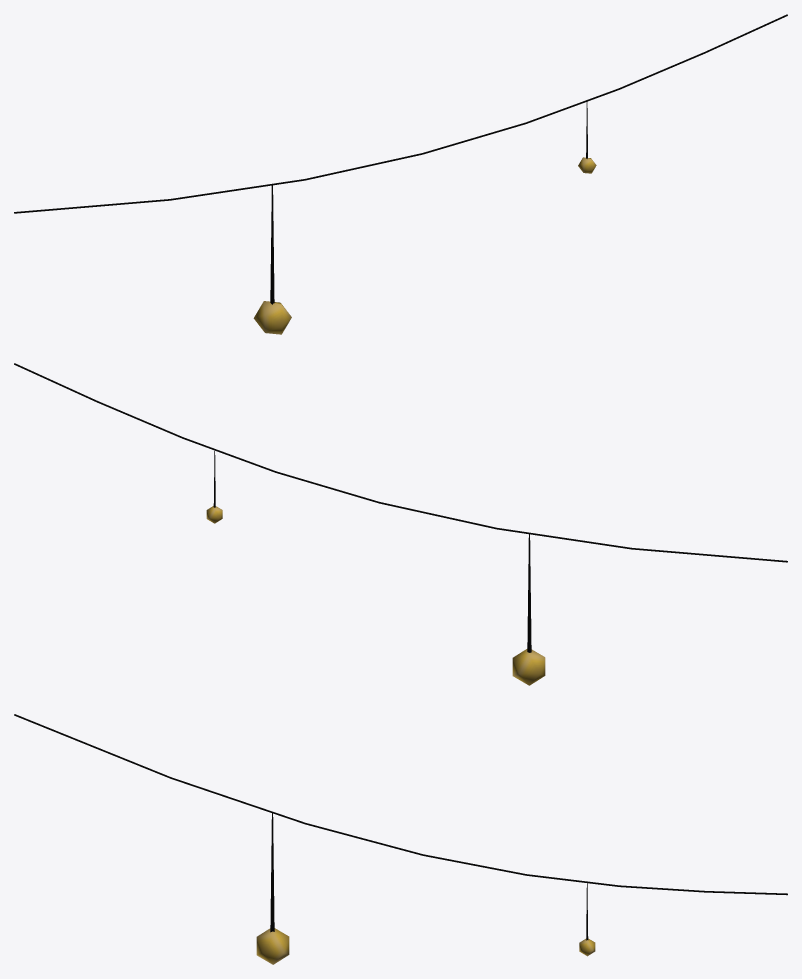
File: Garland_B_5_SpherifyLamps_Yellow.fbx
3 views of the same model, one above another, from view 1: azimuth 30°, elevation 25°; view 2: azimuth 150°, elevation 25°; view 3: azimuth 330°, elevation 25° (orthographic).
Visible parts, largest first — view 1: Garland_B_5_SpherifyLamps_Yellow; view 2: Garland_B_5_SpherifyLamps_Yellow; view 3: Garland_B_5_SpherifyLamps_Yellow.
Boxes of the visible parts, x1,y1,x2,y2 form: Garland_B_5_SpherifyLamps_Yellow: [14, 14, 787, 334]; Garland_B_5_SpherifyLamps_Yellow: [14, 363, 787, 685]; Garland_B_5_SpherifyLamps_Yellow: [14, 714, 787, 964].
Bounding box in the file's own units: 676 × 161 × 29.13.
